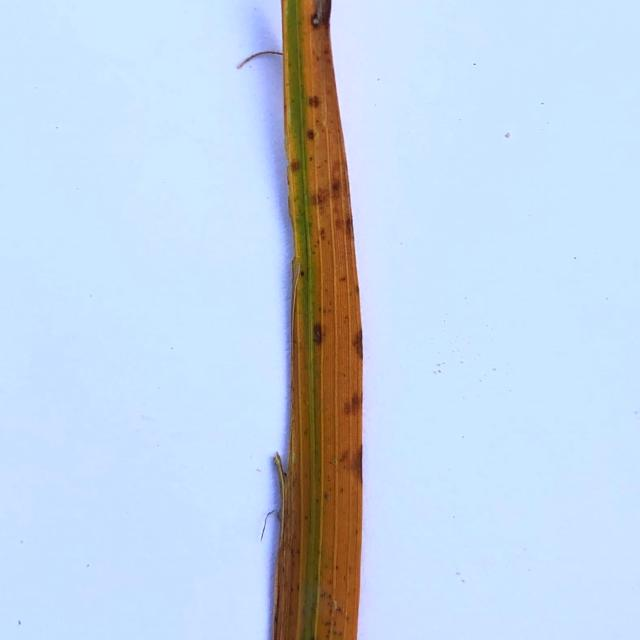tungro: (263, 0, 367, 640)
